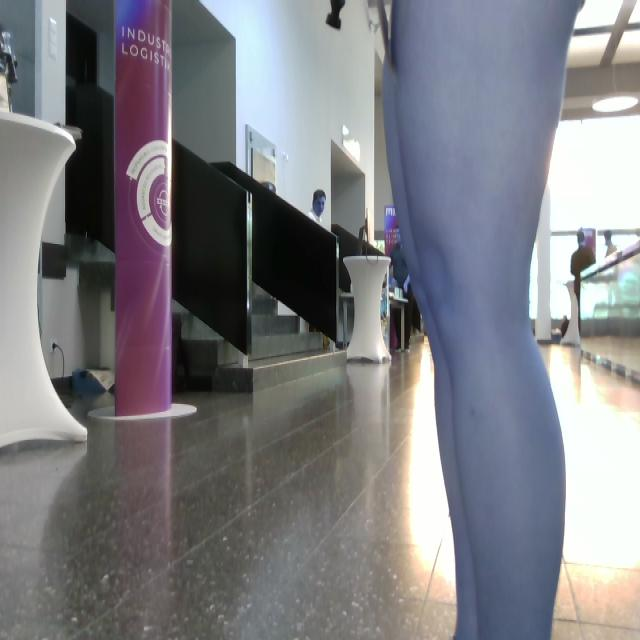door: (254, 285, 329, 356), (246, 126, 284, 194)
light bulb: (1, 112, 87, 448)
person: (383, 1, 584, 640), (571, 232, 595, 328), (309, 190, 326, 222), (606, 232, 617, 257)
pillar: (117, 1, 176, 417)
staircase: (173, 141, 349, 354), (67, 85, 115, 252)
table: (344, 256, 391, 364)
tiled floor: (1, 342, 455, 640), (542, 348, 640, 640)
